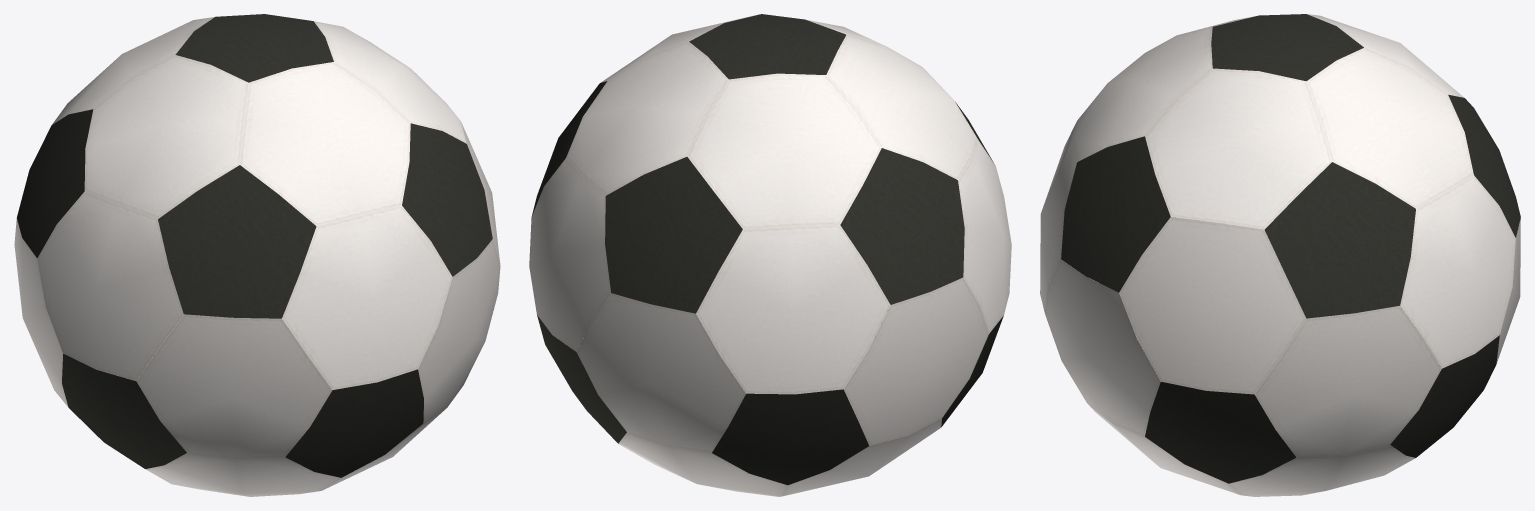
The model's file is Balon.obj.
3 renders of one model, left to right at view 1: azimuth 30°, elevation 25°; view 2: azimuth 150°, elevation 25°; view 3: azimuth 270°, elevation 25°, orthographic.
Parts seen in each view (by area): view 1: body; view 2: body; view 3: body.
Boxes of the visible parts, x1,y1,x2,y2 form: body: (14, 14, 500, 496); body: (529, 14, 1011, 496); body: (1040, 14, 1520, 496).
Size of the model in its own units: 0.3122 by 0.3122 by 0.3074.
1 material, 1 textured.
